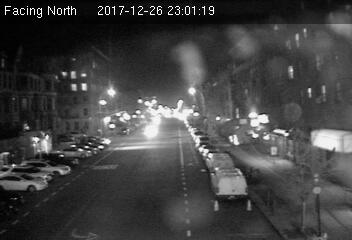truck: (211, 170, 248, 198)
